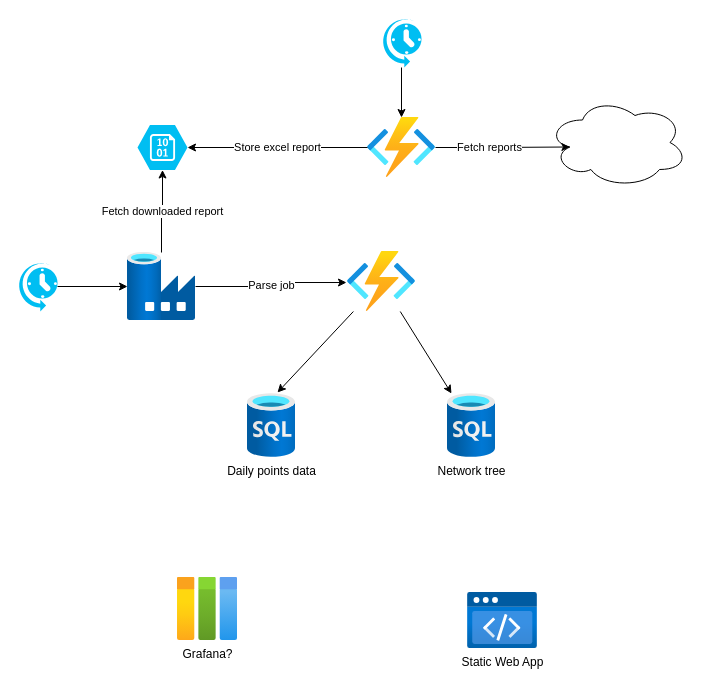
The diagram is 705 pixels wide and 686 high, and some of its shapes have lost their labels. The centre of each missing label's shape, as x and y in pixels:
"coral-club.com" belongs at pixel 617 142.
"Excel 2 Parquet" belongs at pixel 381 281.
